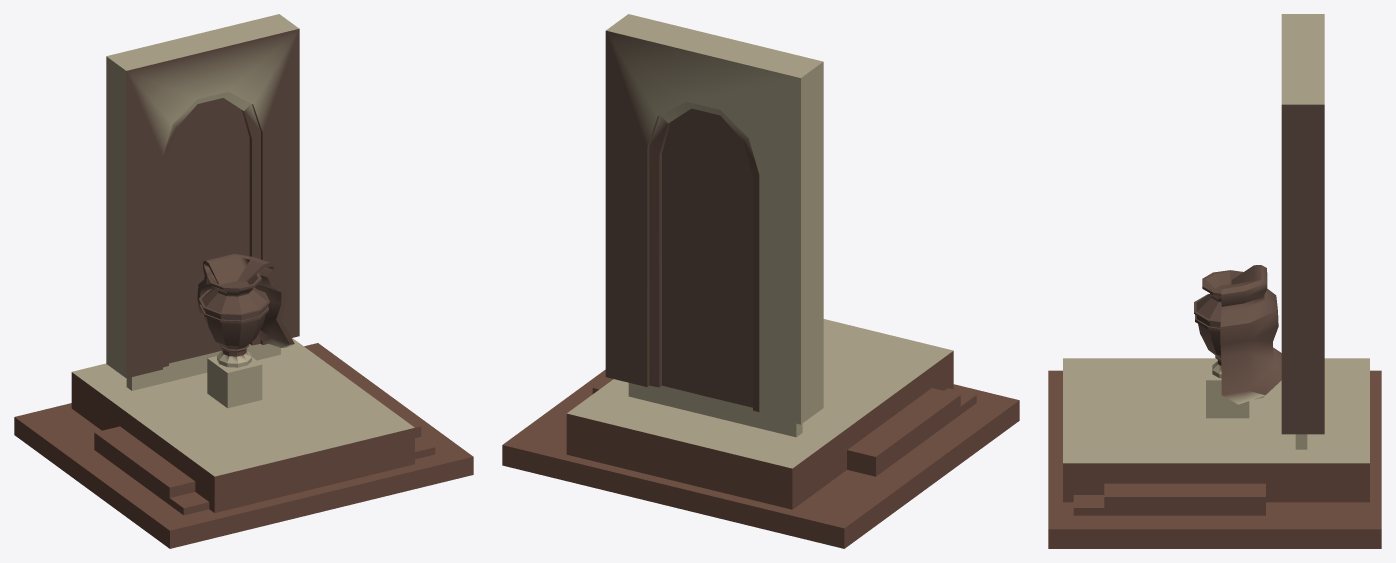
3 views of the same model, side by side, from view 1: azimuth 30°, elevation 25°; view 2: azimuth 150°, elevation 25°; view 3: azimuth 270°, elevation 25° (orthographic). The views are drawn at different scales.
Parts seen in each view (by area): view 1: pCube11:PIV; view 2: pCube11:PIV; view 3: pCube11:PIV.
Boxes of the visible parts, x1,y1,x2,y2 form: pCube11:PIV: (14,14,473,548); pCube11:PIV: (502,14,1019,548); pCube11:PIV: (1048,14,1381,548).
Size of the model in its own units: 8.72 by 10.49 by 7.73.
